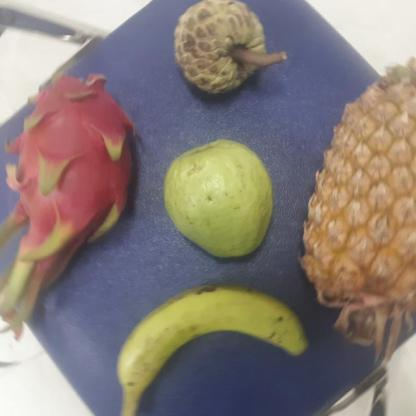annona: (167, 0, 276, 99)
banana: (111, 286, 298, 406)
guava: (157, 140, 274, 257)
pitaya: (2, 81, 140, 240)
